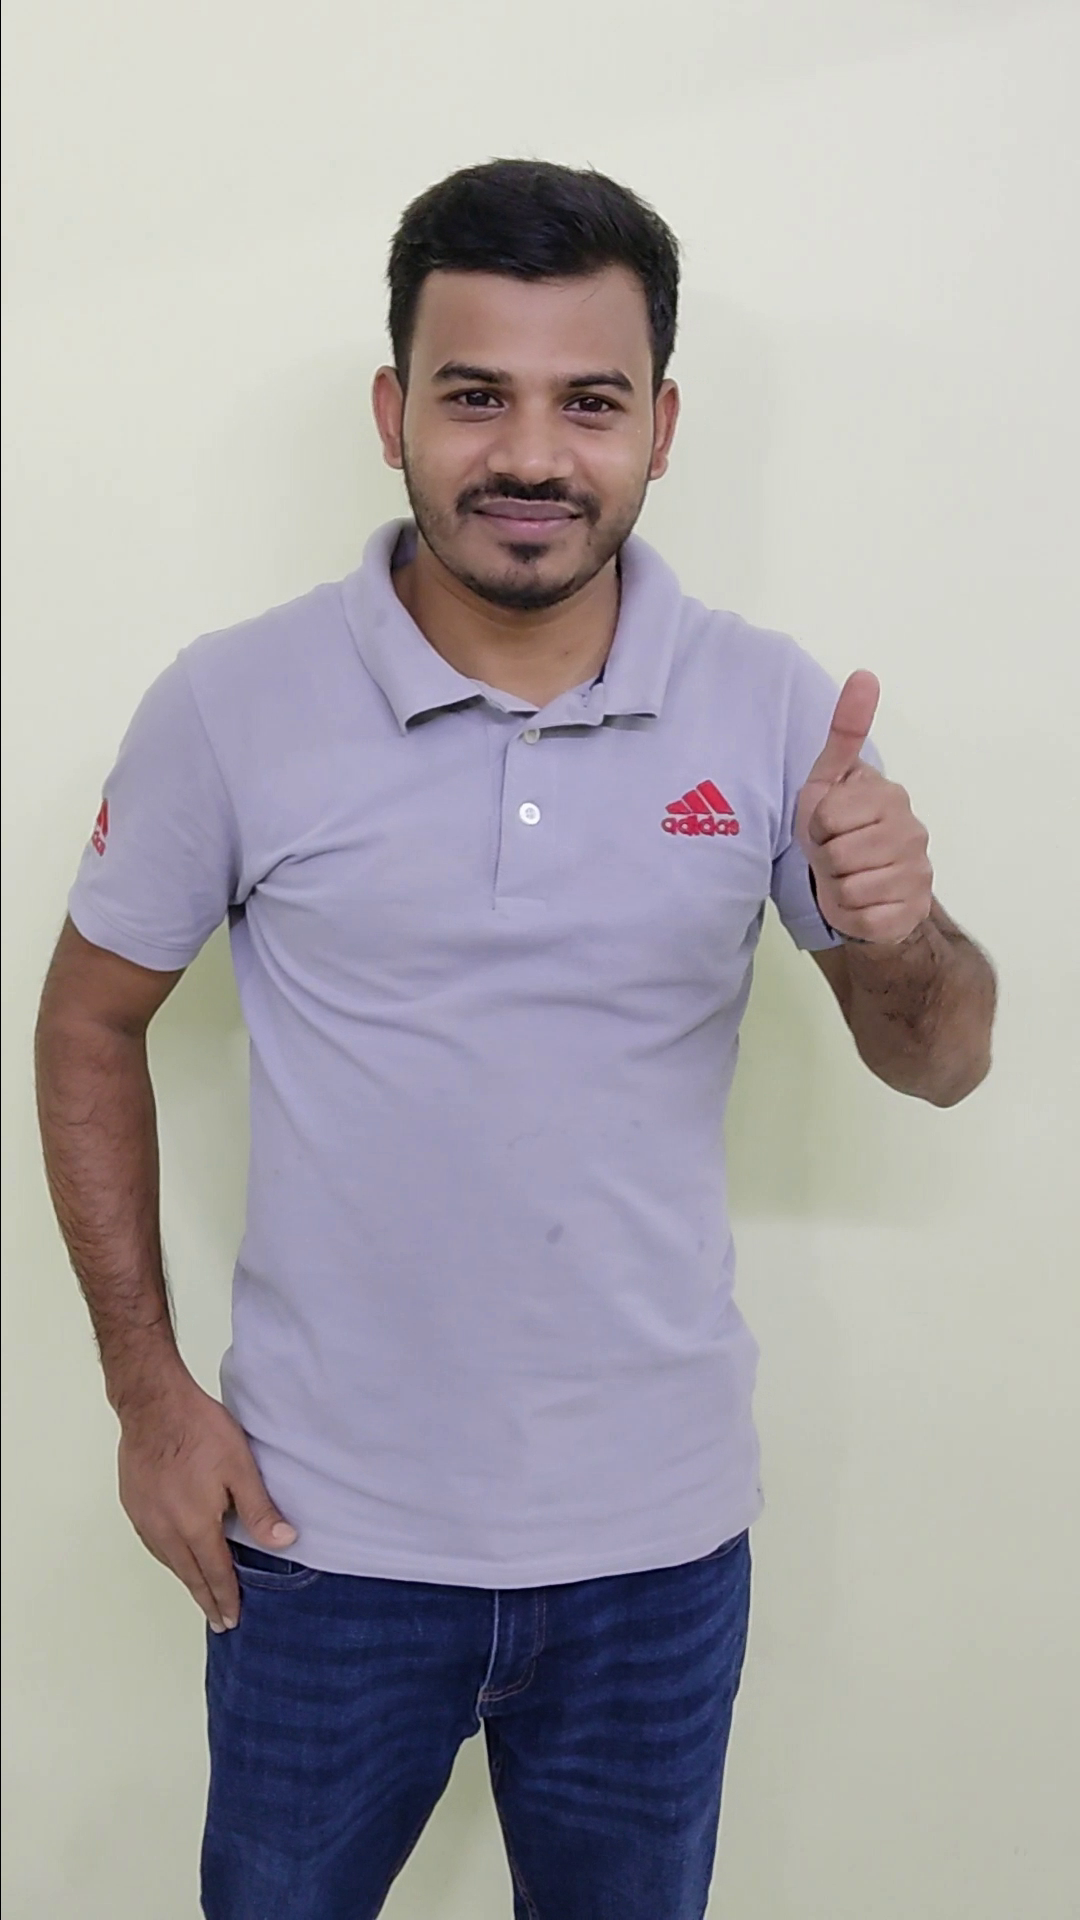Like: (748, 649, 973, 975)
None: (96, 1352, 314, 1642)
